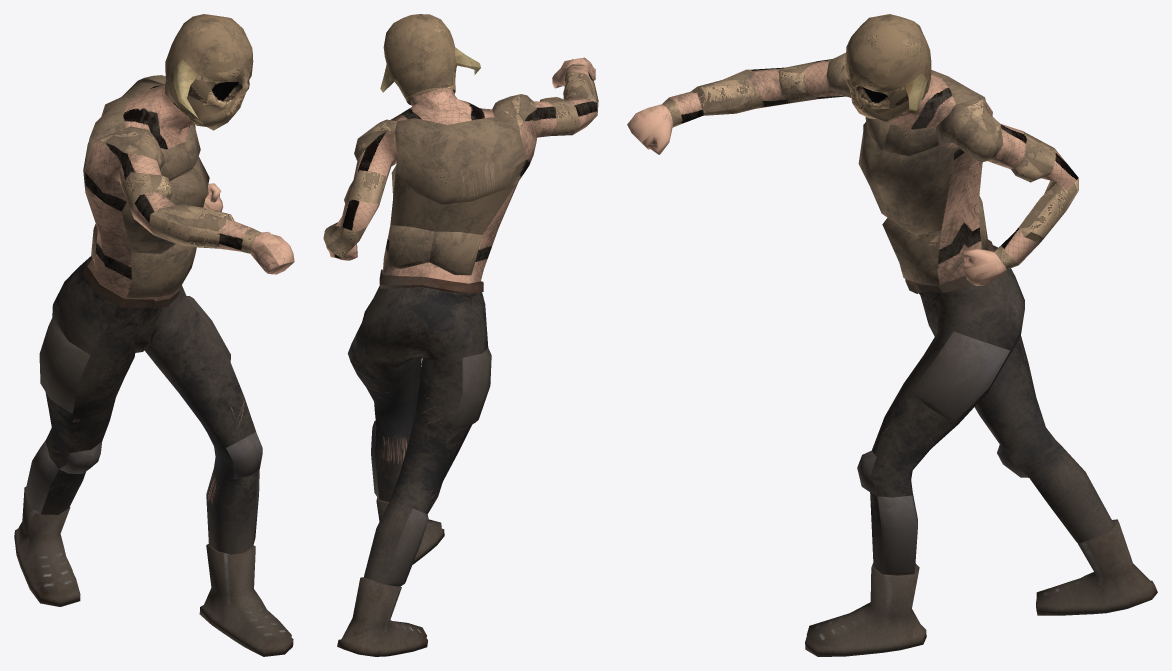
Rendered from Anim_ataque_d2_npc1.0023.obj.
The picture shows the model from 3 angles, left to right: view 1: azimuth 30°, elevation 25°; view 2: azimuth 150°, elevation 25°; view 3: azimuth 270°, elevation 25°; orthographic projection. The views are drawn at different scales.
Parts seen in each view (by area): view 1: NPC2; view 2: NPC2; view 3: NPC2.
Part boxes in pixels (x1,y1,x2,y2): NPC2: (14,14,294,656); NPC2: (323,14,598,656); NPC2: (627,14,1157,656).
Size of the model in its own units: 2.78 by 8.97 by 6.89.
